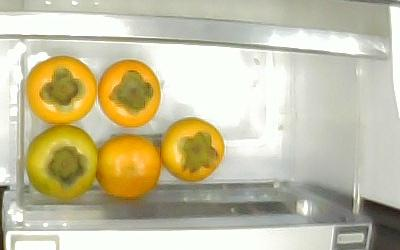persimmon: (24, 123, 97, 199), (26, 54, 96, 124), (157, 115, 225, 182), (94, 132, 162, 199), (97, 57, 162, 127)
